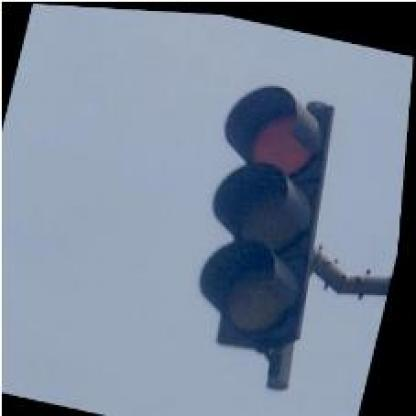red: (176, 70, 359, 362)
